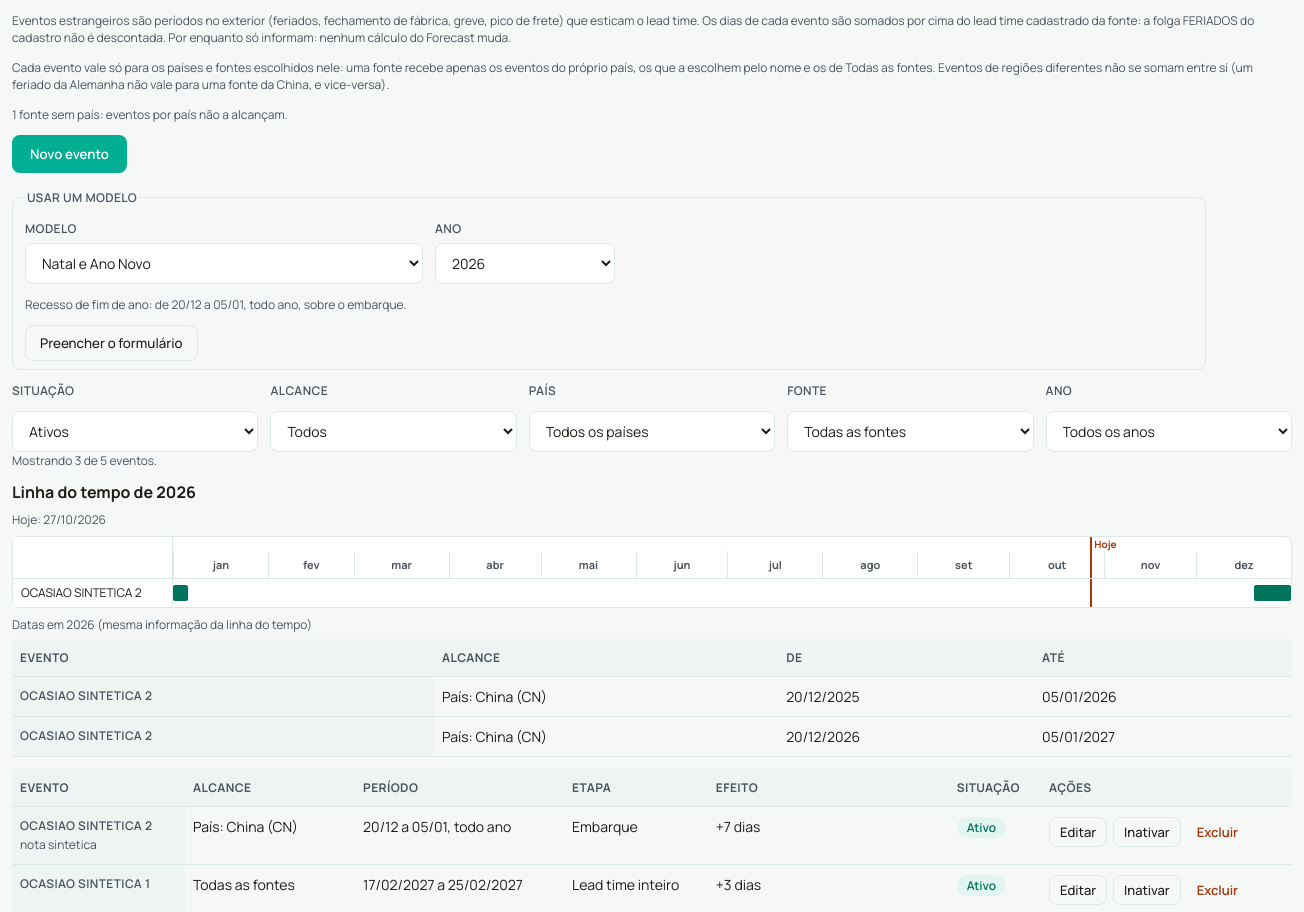
Test: linha do tempo › trocar o ano refaz o GET da janela e mostra a tabela do ano
Expected: the table "Datas em 2026" is shown, [12, 616, 1292, 757]
Select "2027" in the 2nd dropdown labelled "Ano" at [1169, 432], box [1046, 411, 1292, 452]
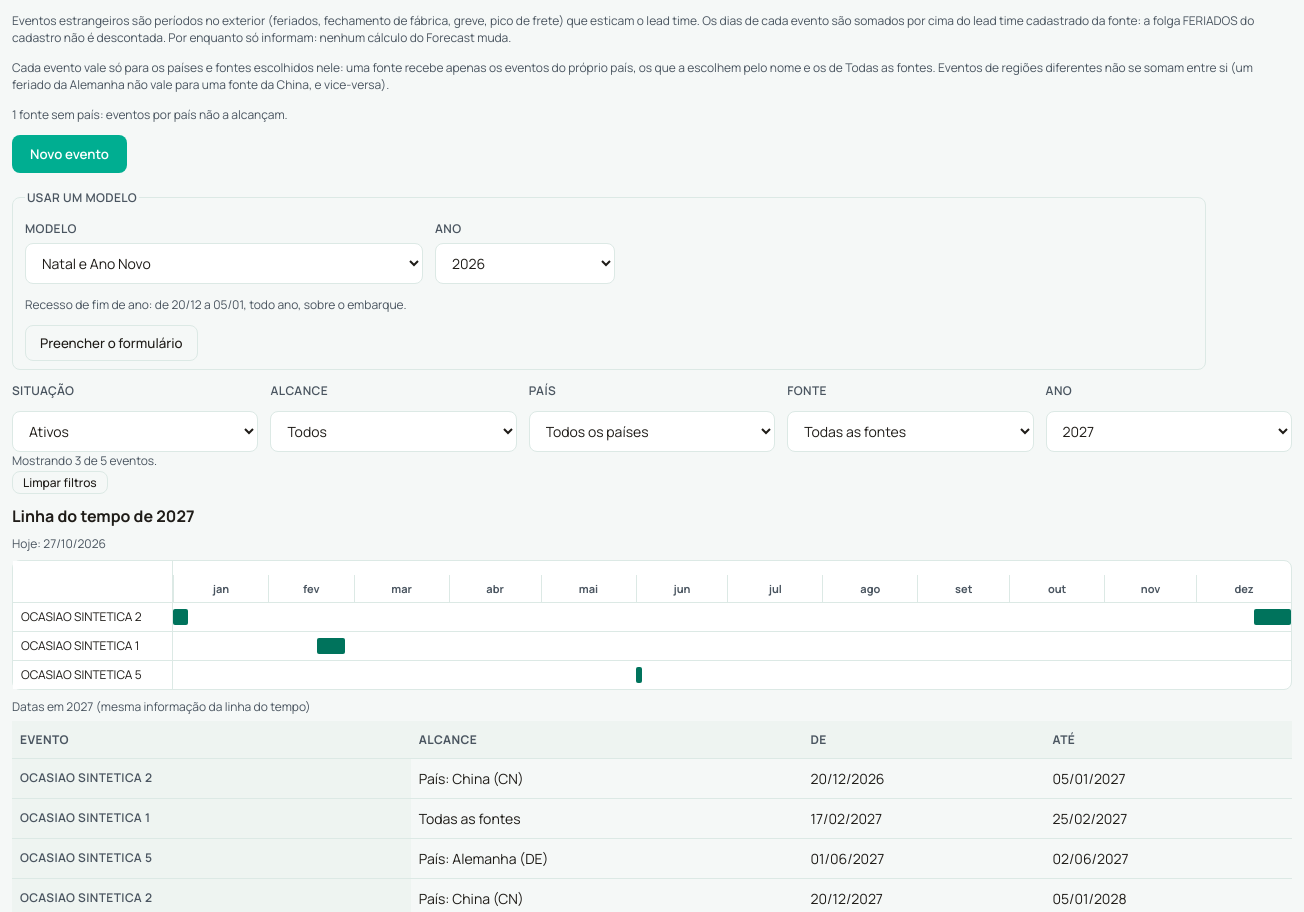
Expected: the text "17/02/2027" is shown, [803, 799, 1044, 839]
